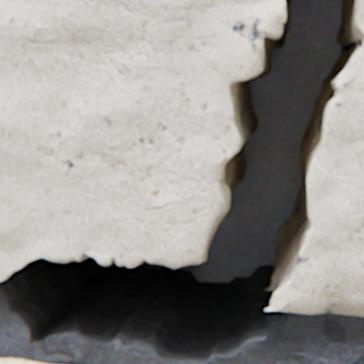brick: (0, 357, 50, 363)
broken_brick: (0, 0, 286, 280), (266, 0, 363, 315)
crack: (0, 0, 361, 363)
